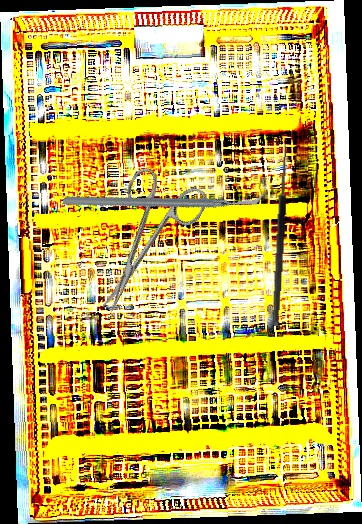Chopper: (61, 117, 268, 280)
Hook Surgical: (262, 141, 290, 326)
Iris Scissors: (70, 158, 212, 328)
